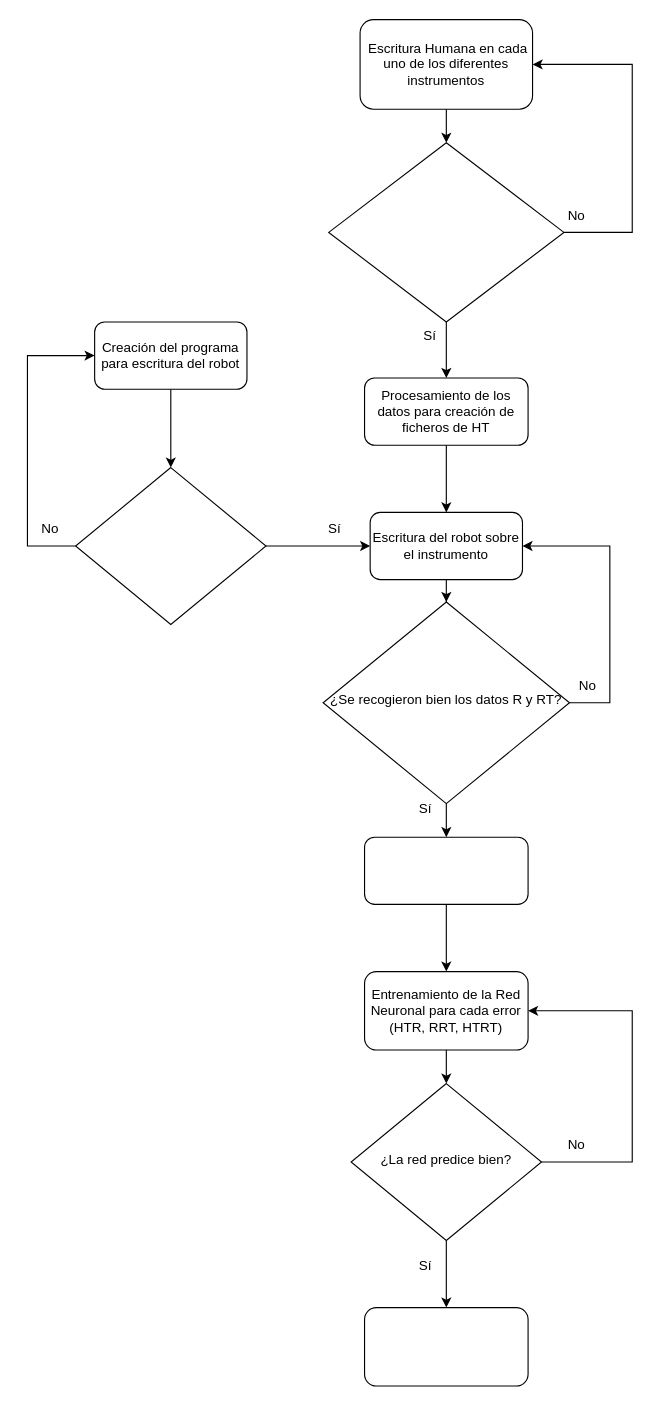
Some shapes in this 661 by 1406 pixel diagram are drawn without their labels. The box of each missing label's shape, as (x1, y1, x2, y2) in pixels:
Obtenemos las métricas y sacamos las conclusiones sobre el estudio del error: (363, 1306, 528, 1386)
Procesamiento de los datos para creación de ficheros de RT: (363, 836, 528, 904)
¿El Robot responde bien?: (74, 466, 266, 624)
¿Se recogieron bien los datos HT?: (328, 142, 564, 322)
